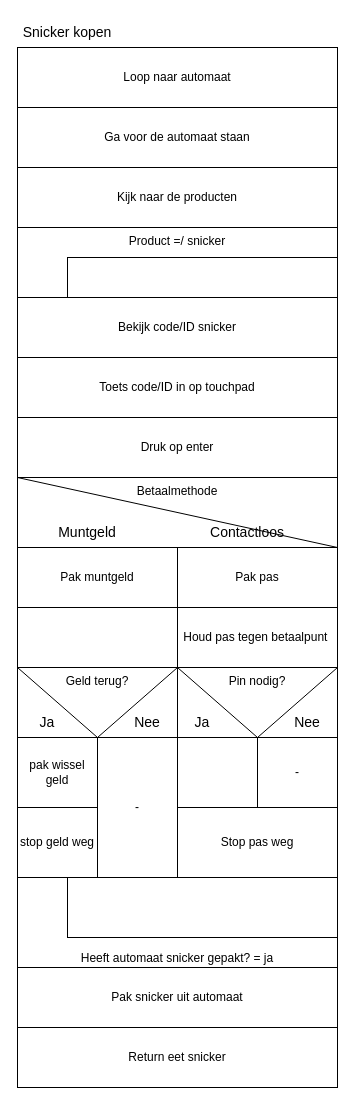
The diagram is 356 pixels wide and 1105 high, and some of its shapes have lost their labels. Each missing label, with the centre of its shape:
"Bekijk volgend product" belongs at (x=202, y=277).
"Stop geld in automaat" belongs at (x=97, y=637).
"Type pin" belongs at (x=217, y=772).
"Wacht" belongs at (x=202, y=907).
